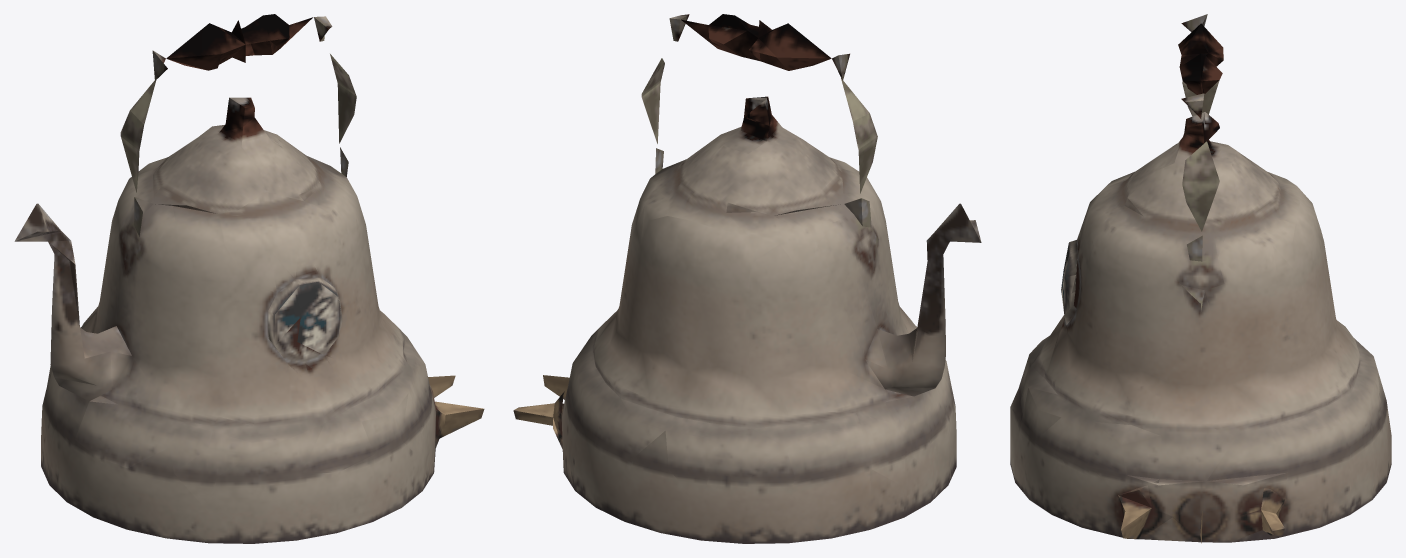
The model's file is kettle_electric.glb.
The picture shows the model from 3 angles, left to right: view 1: azimuth 30°, elevation 25°; view 2: azimuth 150°, elevation 25°; view 3: azimuth 270°, elevation 25°; orthographic projection. The views are drawn at different scales.
Visible parts, largest first — view 1: mesh; view 2: mesh; view 3: mesh.
Boxes of the visible parts, bbox=[...] form: mesh: bbox=[14, 14, 484, 543]; mesh: bbox=[513, 14, 981, 543]; mesh: bbox=[1010, 14, 1391, 543].
Size of the model in its own units: 0.3156 by 0.3047 by 0.246.
1 material, 1 textured.
